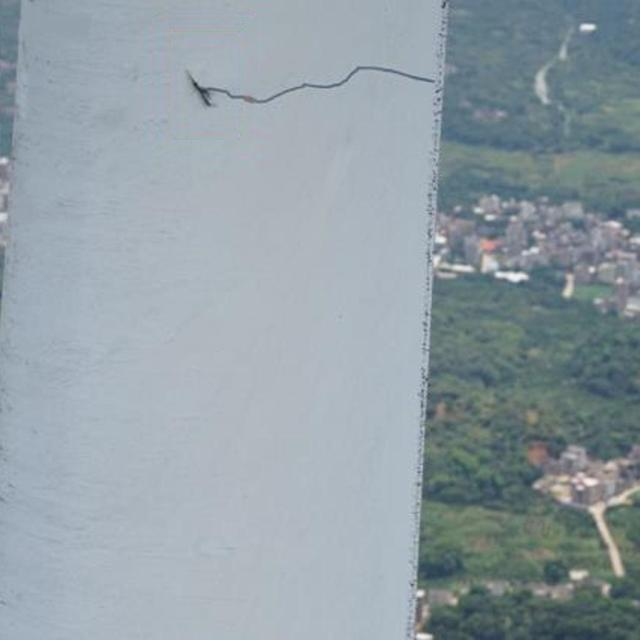crack: (182, 62, 441, 109)
